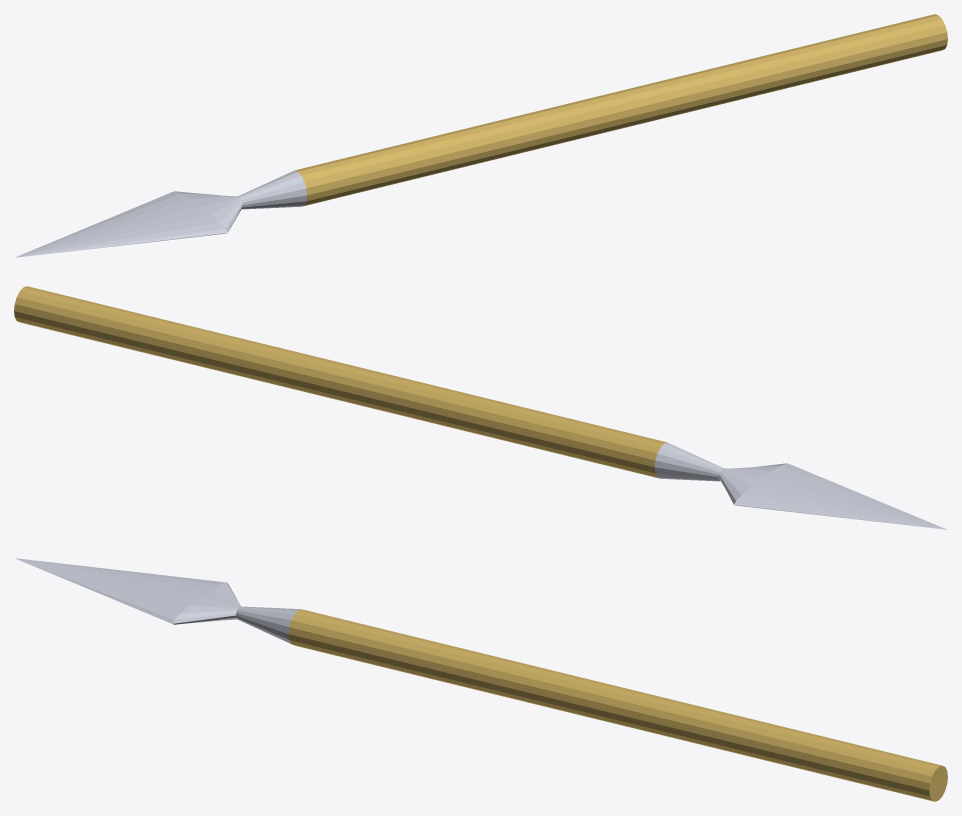
Rendered from Javelin.fbx.
3 views of the same model, one above another, from view 1: azimuth 30°, elevation 25°; view 2: azimuth 150°, elevation 25°; view 3: azimuth 330°, elevation 25° (orthographic).
Parts seen in each view (by area): view 1: Cylinder; view 2: Cylinder; view 3: Cylinder.
Part boxes in pixels (box(x1,y1,x2,y2)): Cylinder: box(15, 14, 947, 257); Cylinder: box(14, 286, 946, 529); Cylinder: box(15, 558, 947, 801).
Size of the model in its own units: 2870 by 100 by 300.
